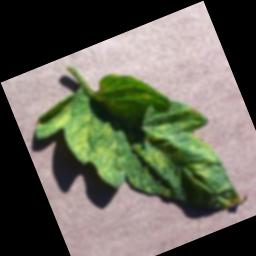Leaf_Mold: (25, 46, 243, 256)
